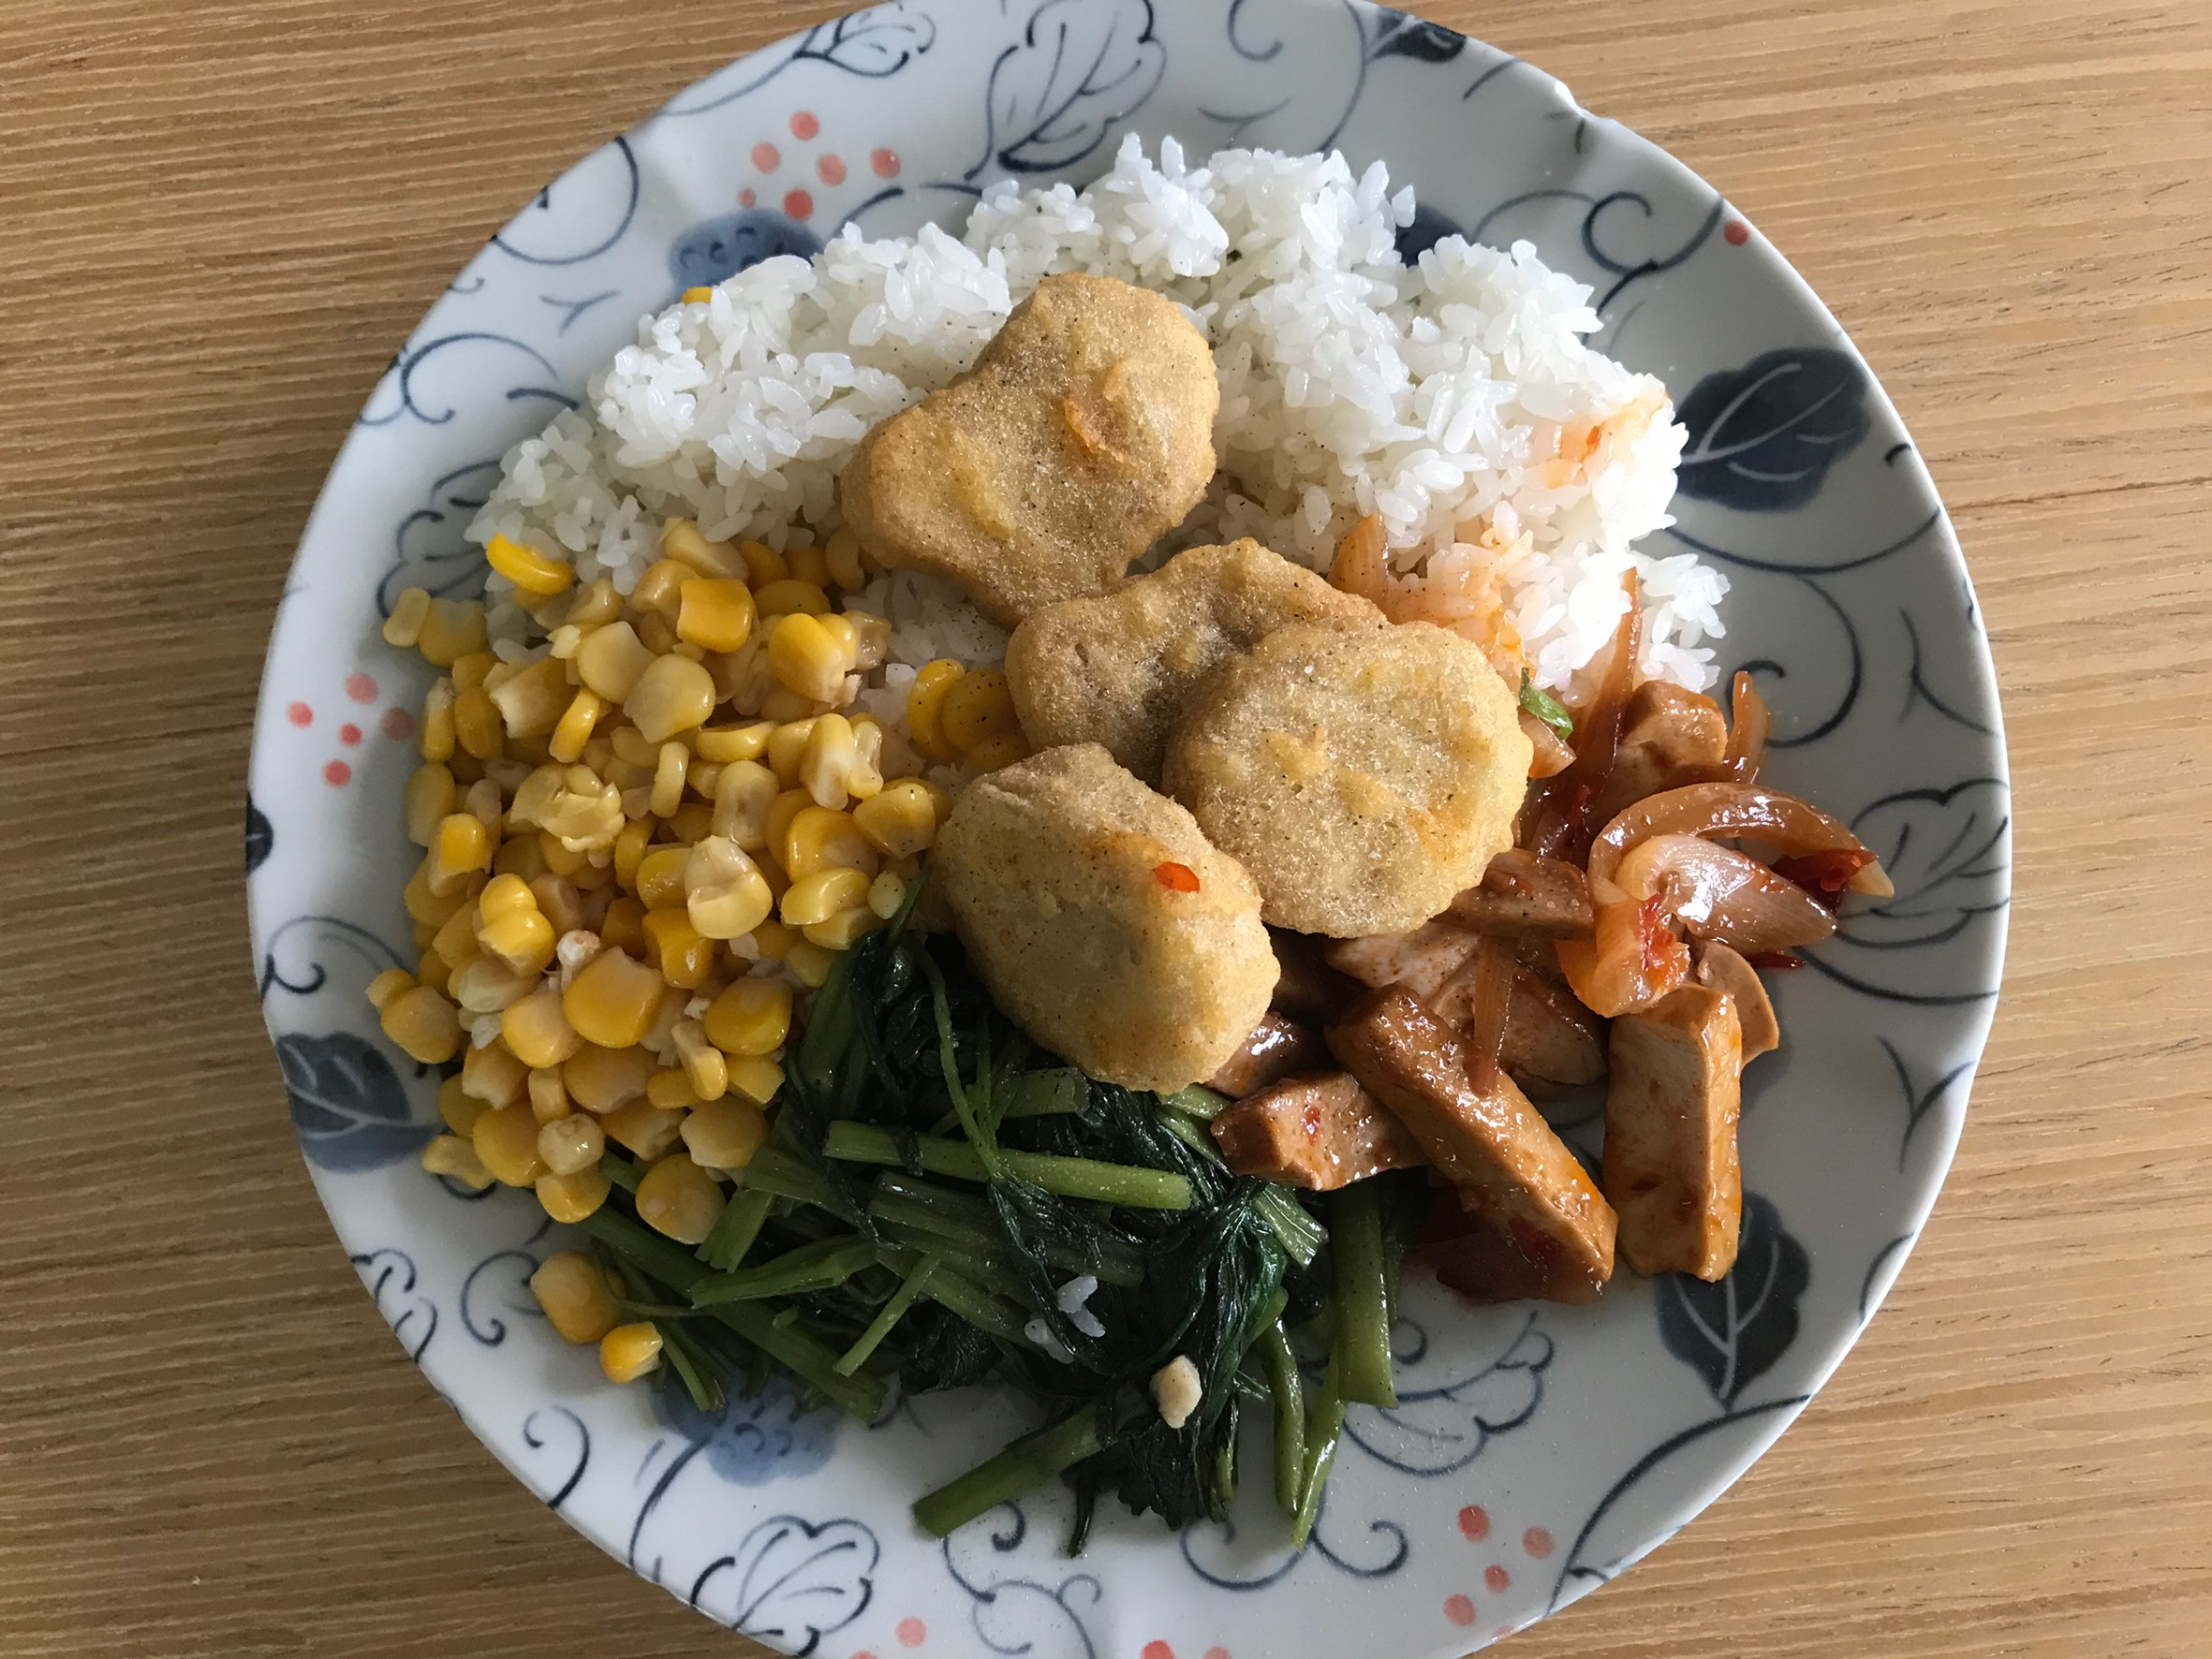chicken_nuggets: (856, 279, 1513, 1061), (950, 748, 1302, 1110)
rice: (1224, 146, 1686, 591)
water_spinach: (689, 953, 1367, 1509)
